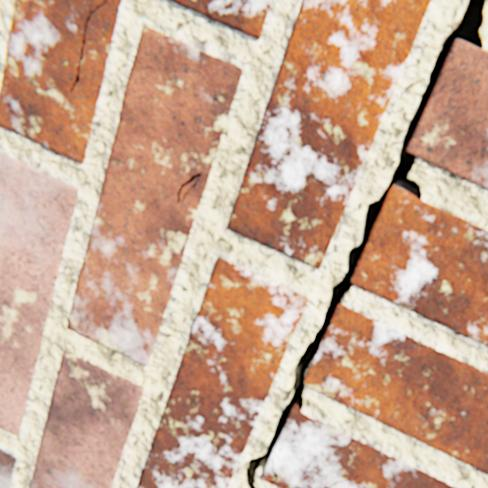brick: (69, 28, 243, 365), (228, 0, 431, 268), (138, 258, 307, 487), (304, 304, 487, 473), (0, 151, 79, 435), (351, 188, 487, 345), (0, 0, 123, 163), (261, 408, 456, 487), (31, 351, 144, 487), (406, 40, 487, 189), (168, 0, 272, 40), (0, 448, 17, 487)
crack: (241, 0, 487, 487), (70, 0, 107, 93), (178, 173, 202, 203), (269, 458, 277, 481), (332, 478, 353, 484)
